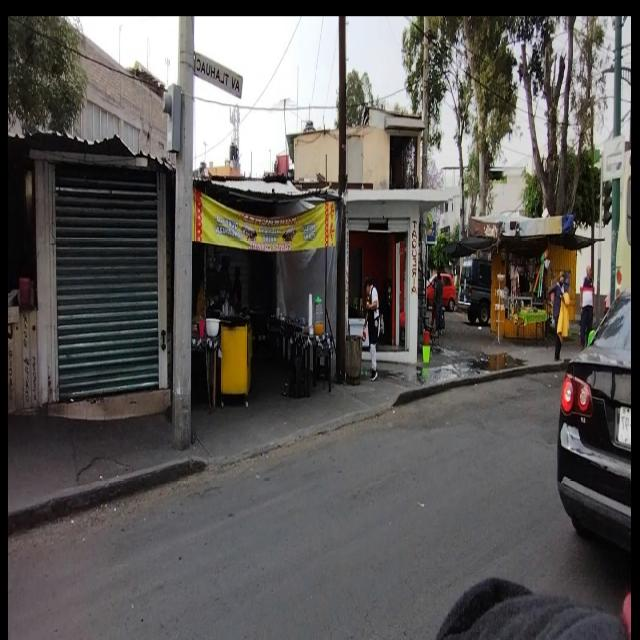adult: (548, 272, 568, 364), (363, 275, 381, 376), (580, 263, 595, 350), (433, 270, 443, 334)
